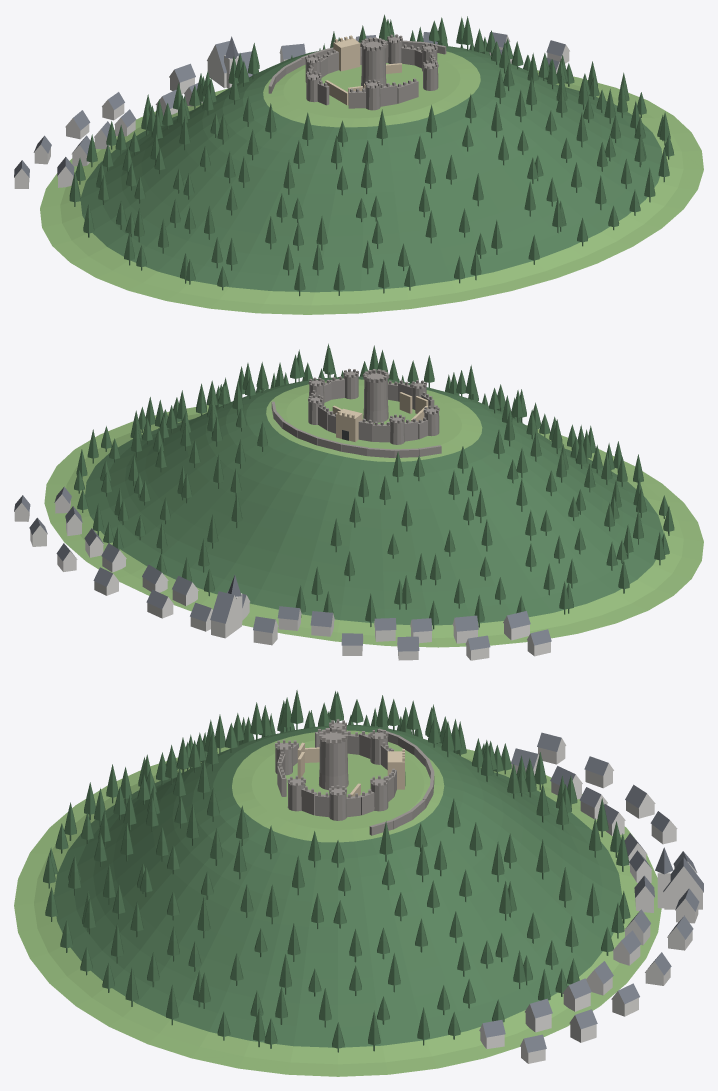
Rendered from nurburg_castle.glb.
The picture shows the model from 3 angles, top to bottom: view 1: azimuth 30°, elevation 25°; view 2: azimuth 150°, elevation 25°; view 3: azimuth 270°, elevation 25°; orthographic projection. The views are drawn at different scales.
Visible parts, largest first — view 1: hill, trees, castle, village; view 2: hill, trees, village, castle; view 3: hill, trees, village, castle.
Part boxes in pixels (x1,y1,x2,y2): hill: (40, 45, 703, 314); trees: (69, 14, 674, 296); castle: (268, 34, 446, 110); village: (14, 32, 569, 188); hill: (44, 376, 703, 647); trees: (74, 343, 674, 629); village: (14, 486, 551, 660); castle: (271, 368, 441, 457); hill: (14, 725, 661, 1076); trees: (43, 690, 630, 1052); village: (479, 732, 703, 1063); castle: (275, 719, 434, 835).
Bounding box in the file's own units: 375 × 87.79 × 319.
